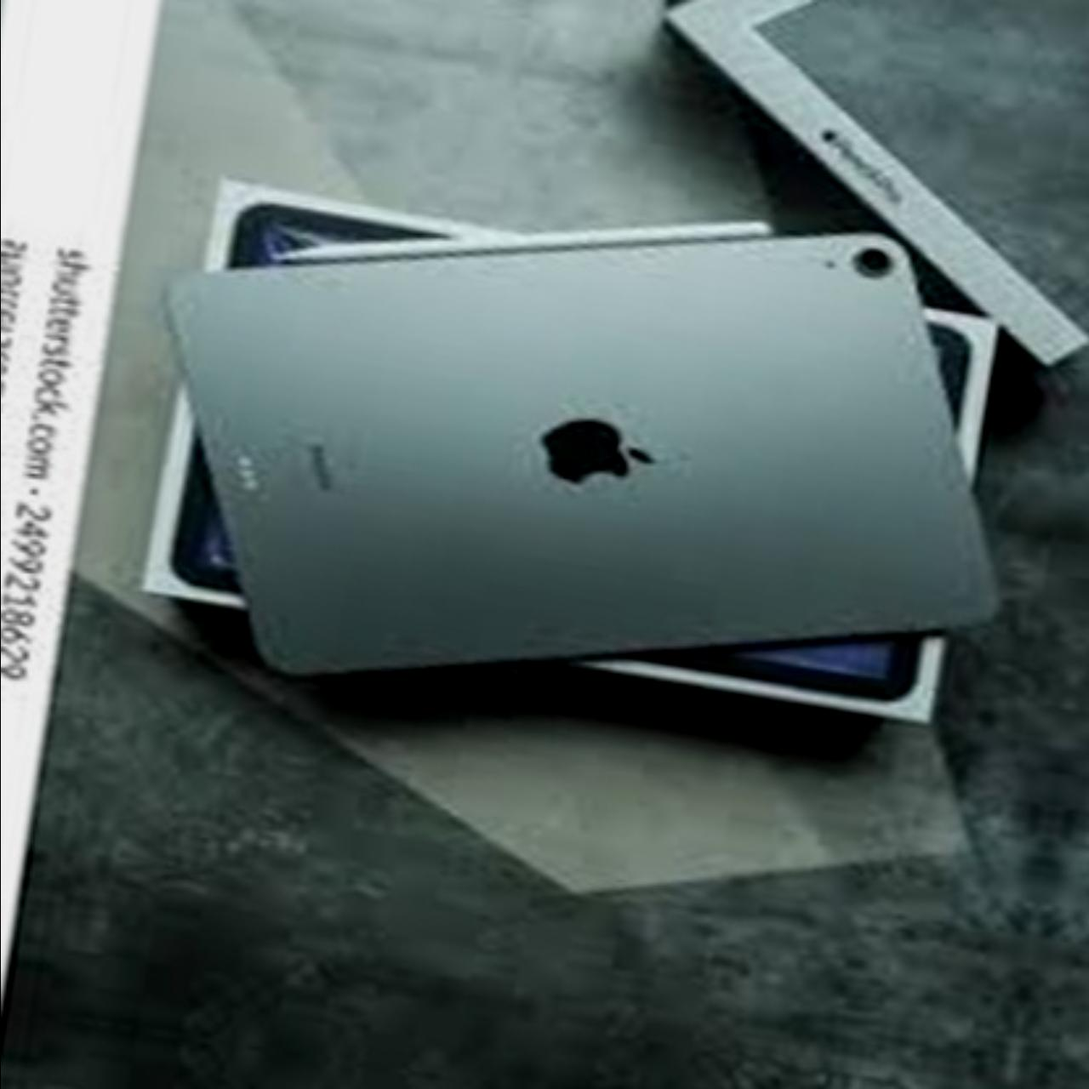Tablet_PC: (89, 97, 1065, 830)
